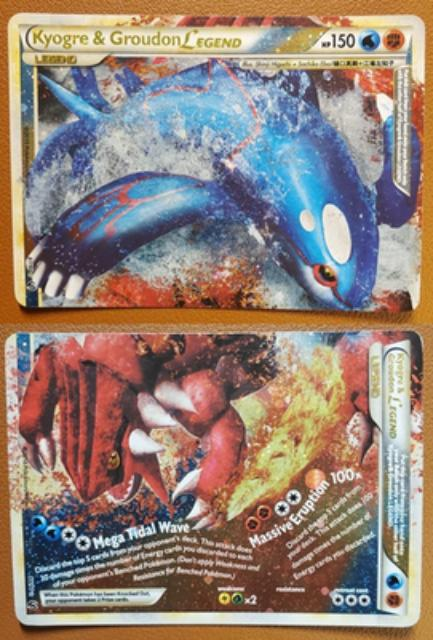Card: (4, 10, 428, 318), (2, 327, 427, 632)
Name: (24, 25, 248, 56), (383, 345, 412, 455)
